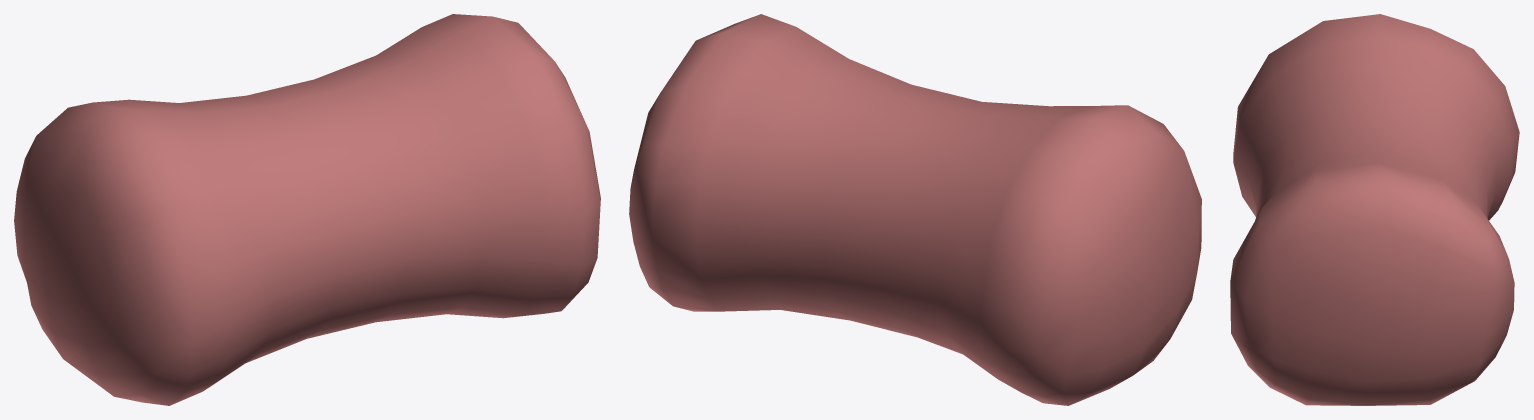
Rendered from SM_Pillow_05_Unity.fbx.
3 renders of one model, left to right at view 1: azimuth 30°, elevation 25°; view 2: azimuth 150°, elevation 25°; view 3: azimuth 270°, elevation 25°, orthographic. The views are drawn at different scales.
Visible parts, largest first — view 1: SM_Pillow_cilindrical; view 2: SM_Pillow_cilindrical; view 3: SM_Pillow_cilindrical.
Part boxes in pixels (bbox=[...]): SM_Pillow_cilindrical: bbox=[14, 14, 600, 405]; SM_Pillow_cilindrical: bbox=[629, 14, 1201, 405]; SM_Pillow_cilindrical: bbox=[1230, 14, 1519, 405].
Bounding box in the file's own units: 92.39 × 48.09 × 53.48.
